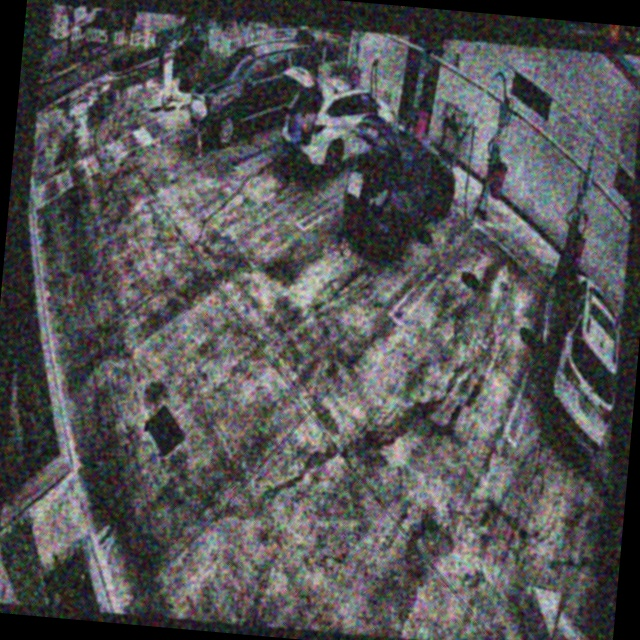Car: (340, 118, 459, 265), (276, 64, 399, 182)
